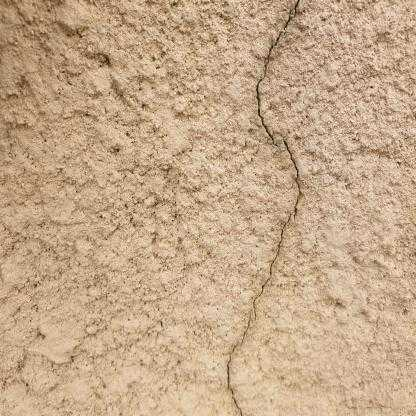crack: (253, 214, 291, 319), (256, 31, 280, 147), (227, 341, 243, 416), (284, 141, 299, 192), (242, 308, 252, 343), (283, 8, 291, 30), (294, 194, 299, 220), (293, 0, 300, 17)
